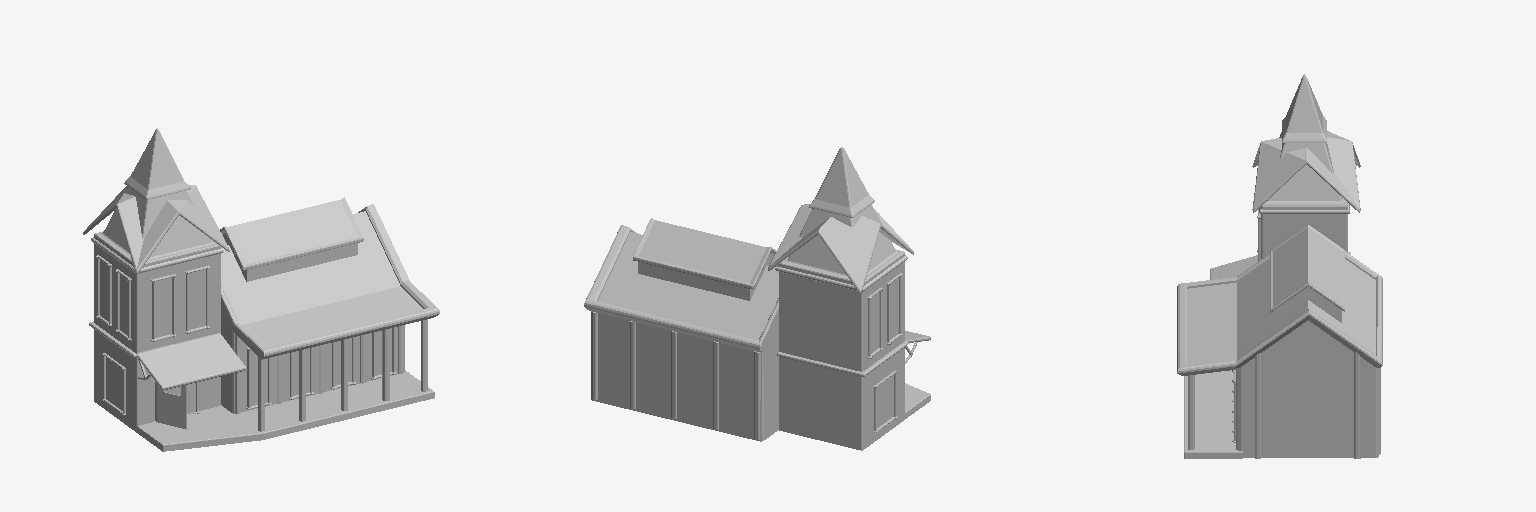
The model's file is SM_gare_ville.obj.
3 renders of one model, left to right at view 1: azimuth 30°, elevation 25°; view 2: azimuth 150°, elevation 25°; view 3: azimuth 270°, elevation 25°, orthographic.
Visible parts, largest first — view 1: gare_principal, tour, plancher, toit, porte, fennettre.001, fennettre, fennettre.004, fennettre.003, fennettre.005, fennettre.002, fennettre.006 (+3 smaller); view 2: gare_principal, tour, toit, fennettre.004, fennettre.002, fennettre.003, poutre.004, plancher, poutre.001, poutre.003, poutre.002; view 3: gare_principal, tour, toit, plancher, poutre.016, poutre.015.
Part boxes in pixels (x1,y1,x2,y2): gare_principal: (220,197,439,413); tour: (89,128,245,432); plancher: (137,370,434,451); toit: (83,185,229,273); porte: (154,382,199,429); fennettre.001: (185,265,209,333); fennettre: (151,274,176,341); fennettre.004: (102,353,126,415); fennettre.003: (96,255,111,325); fennettre.005: (246,347,271,409); fennettre.002: (116,269,131,340); fennettre.006: (289,347,313,399); gare_principal: (584,218,778,441); tour: (775,147,930,450); toit: (768,204,913,293); fennettre.004: (874,370,897,432); fennettre.002: (887,273,902,344); fennettre.003: (867,287,883,358); poutre.004: (754,351,760,439); plancher: (905,383,930,418); poutre.001: (713,341,718,429); poutre.003: (592,312,597,399); poutre.002: (630,321,635,408); gare_principal: (1177,225,1382,457); tour: (1210,74,1350,279); toit: (1252,131,1360,212); plancher: (1184,370,1242,458); poutre.016: (1354,352,1360,458); poutre.015: (1255,353,1260,458).
Bounding box in the file's own units: 7.65 × 7.67 × 5.1.